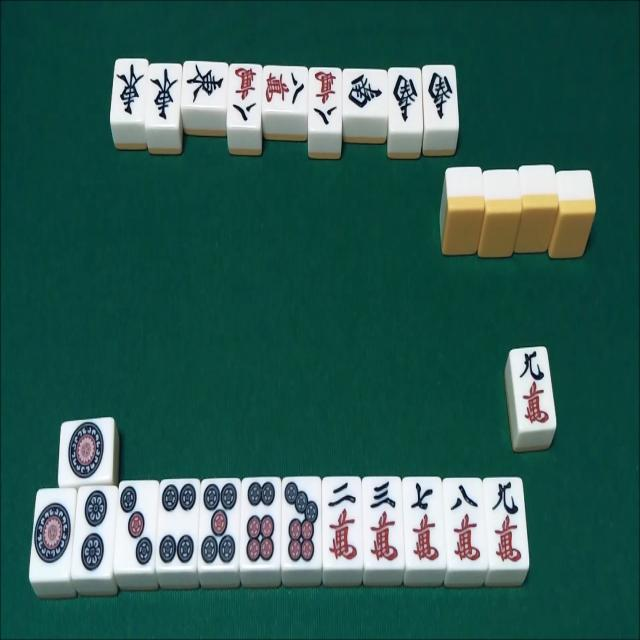east: (114, 62, 143, 120), (186, 63, 225, 105), (150, 67, 178, 125)
m2: (326, 483, 362, 570)
m3: (365, 479, 401, 565)
m7: (406, 480, 441, 566)
m8: (448, 480, 486, 566), (230, 67, 260, 127), (310, 71, 340, 130), (264, 67, 306, 109)
m9: (488, 480, 525, 568), (515, 349, 555, 428)
south: (390, 71, 420, 128), (427, 68, 456, 126), (345, 72, 383, 116)
t1: (32, 492, 76, 582), (59, 416, 112, 484)
t2: (75, 485, 117, 579)
t3: (117, 482, 157, 573)
t4: (161, 478, 201, 570)
t5: (199, 479, 239, 571)
t6: (241, 478, 279, 570)
t7: (282, 480, 319, 570)
